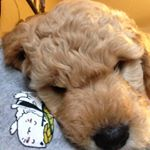puppy: (3, 1, 149, 150)
